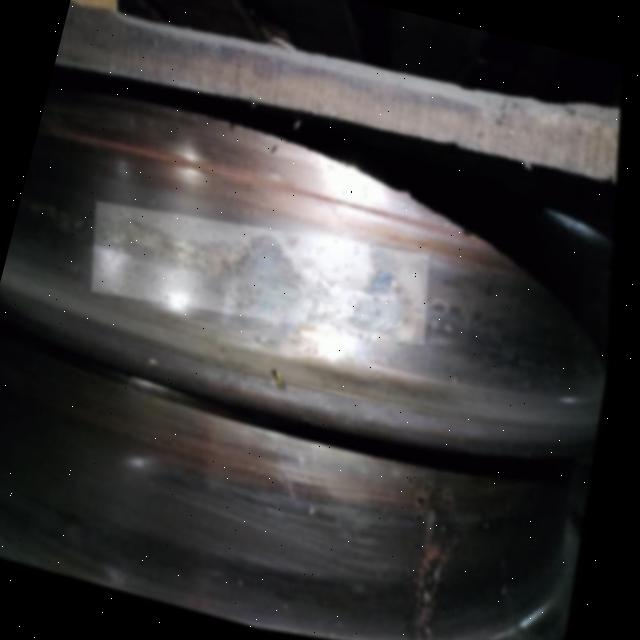Rollerpile: (78, 172, 456, 385)
